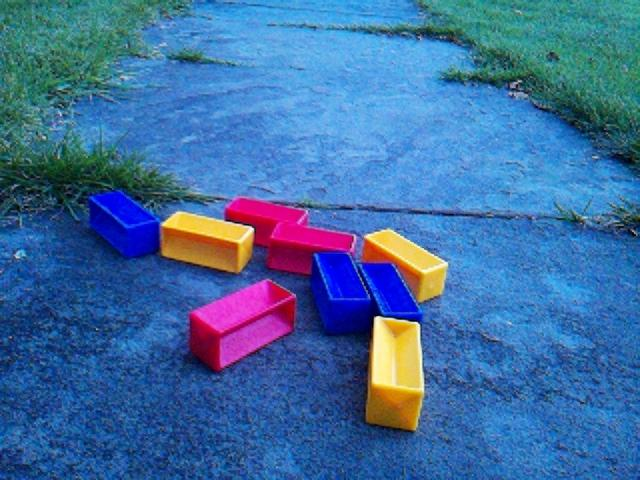blue: (310, 252, 374, 338), (89, 190, 162, 260), (358, 263, 424, 326)
red: (189, 279, 299, 373), (267, 222, 358, 277), (226, 200, 309, 249)
yellow: (366, 317, 426, 433), (362, 228, 450, 305), (161, 212, 256, 276)
